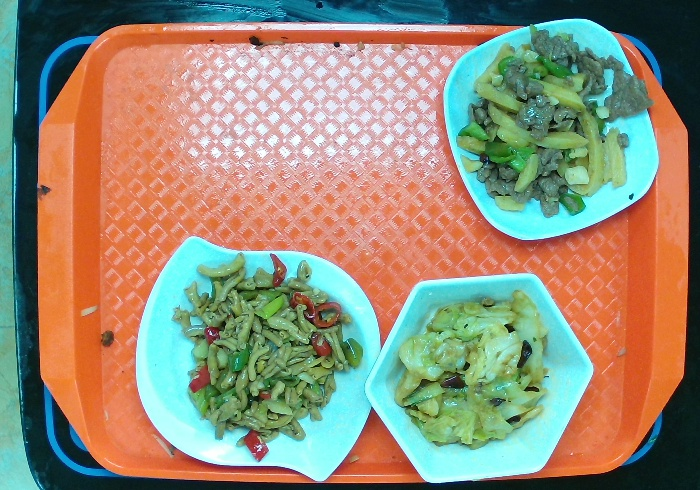RJxy-Liu_Jiao_Wan: (363, 264, 596, 487)
RJxy-Shuang_Jiao_Pan: (131, 232, 387, 484)
RJxy-Si_Fang_Wan: (431, 13, 662, 249)
